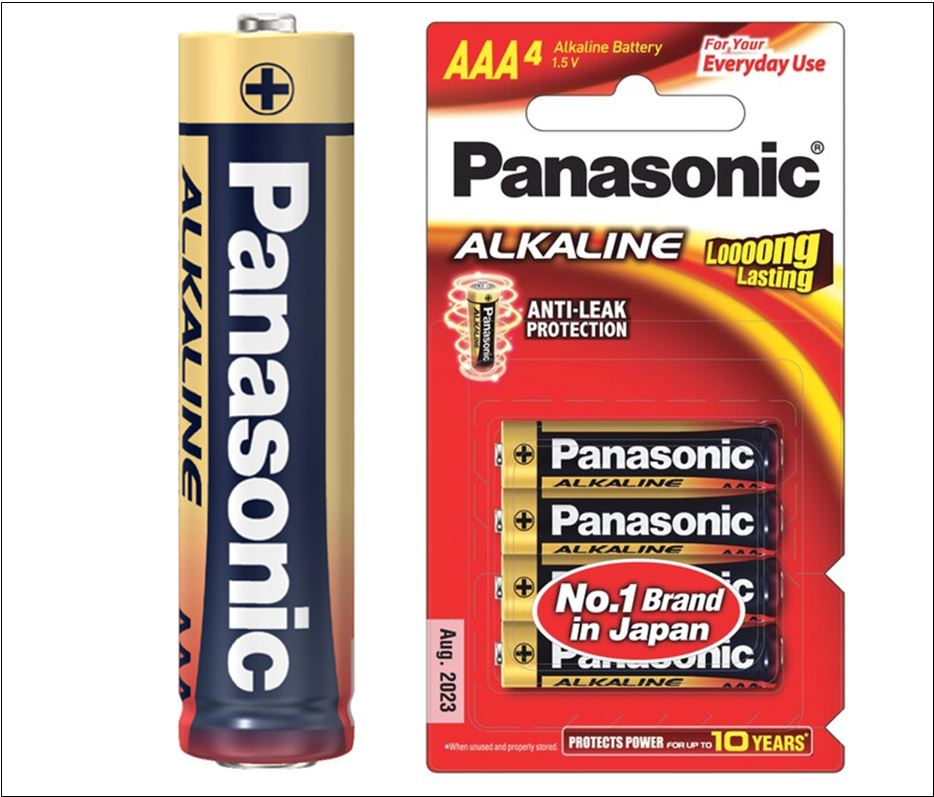Battery: (173, 10, 361, 774), (491, 418, 781, 490), (491, 489, 783, 554)
